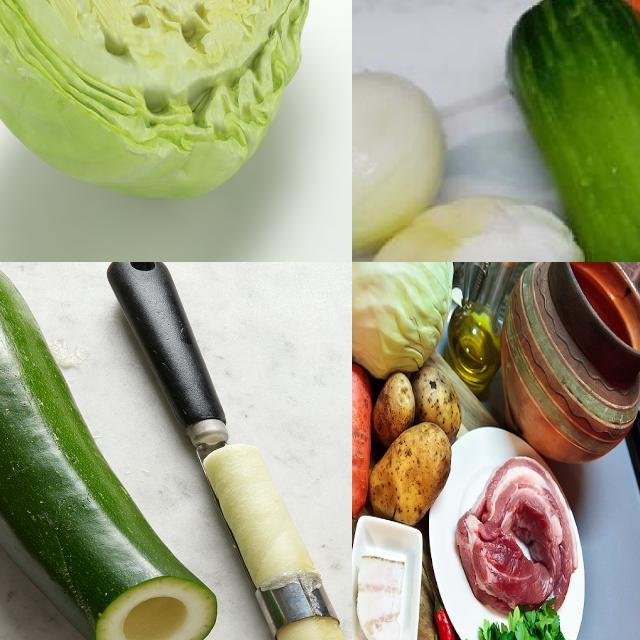cabbage: (1, 1, 319, 204), (353, 263, 443, 364)
carrot: (353, 372, 374, 511)
onion: (353, 67, 452, 263), (353, 195, 586, 263)
potato: (378, 421, 446, 521), (423, 366, 460, 429), (378, 383, 418, 433)
zucchini: (1, 263, 202, 640)
